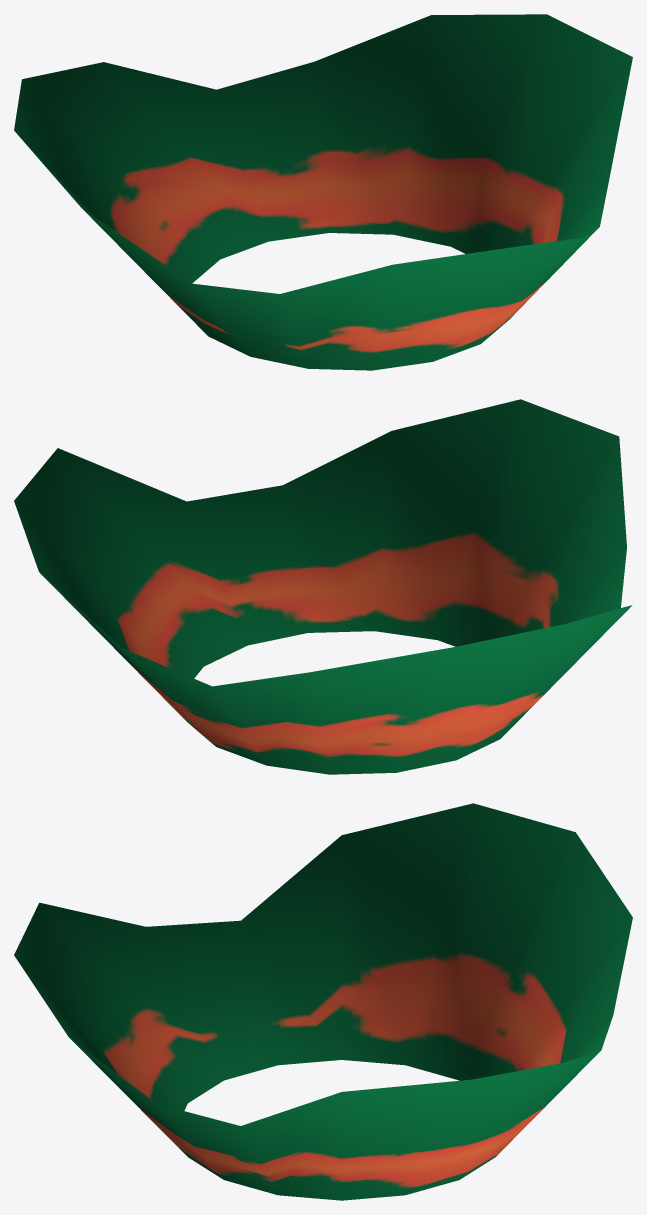
Rendered from p_mesh_trashbot_bleed_splash01.fbx.
3 renders of one model, top to bottom at view 1: azimuth 30°, elevation 25°; view 2: azimuth 150°, elevation 25°; view 3: azimuth 270°, elevation 25°, orthographic. The views are drawn at different scales.
Parts seen in each view (by area): view 1: p_mesh_water_cylinder; view 2: p_mesh_water_cylinder; view 3: p_mesh_water_cylinder.
Boxes of the visible parts, left/top/right/bottom form: p_mesh_water_cylinder: left=14, top=14, right=632, bottom=370; p_mesh_water_cylinder: left=14, top=399, right=632, bottom=774; p_mesh_water_cylinder: left=14, top=803, right=632, bottom=1200.
Bounding box in the file's own units: 2.31 × 0.7581 × 2.21.
